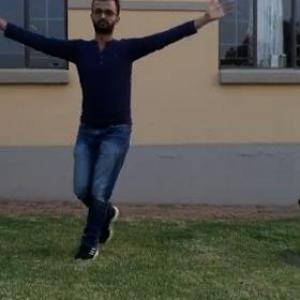takeoff: (0, 0, 203, 228)
